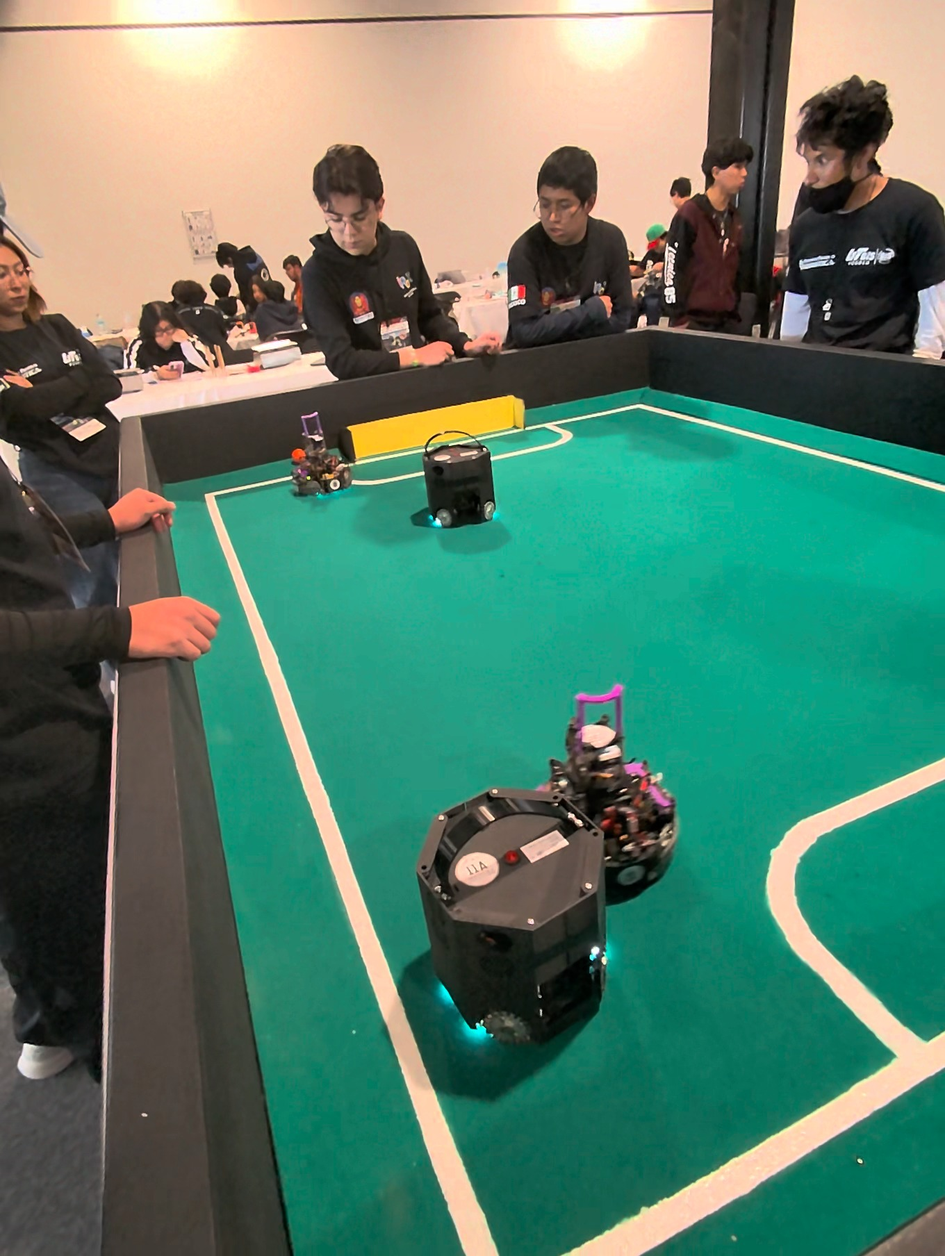Robot: (428, 792, 615, 1087), (605, 712, 683, 911), (414, 406, 500, 547), (289, 405, 356, 503)
